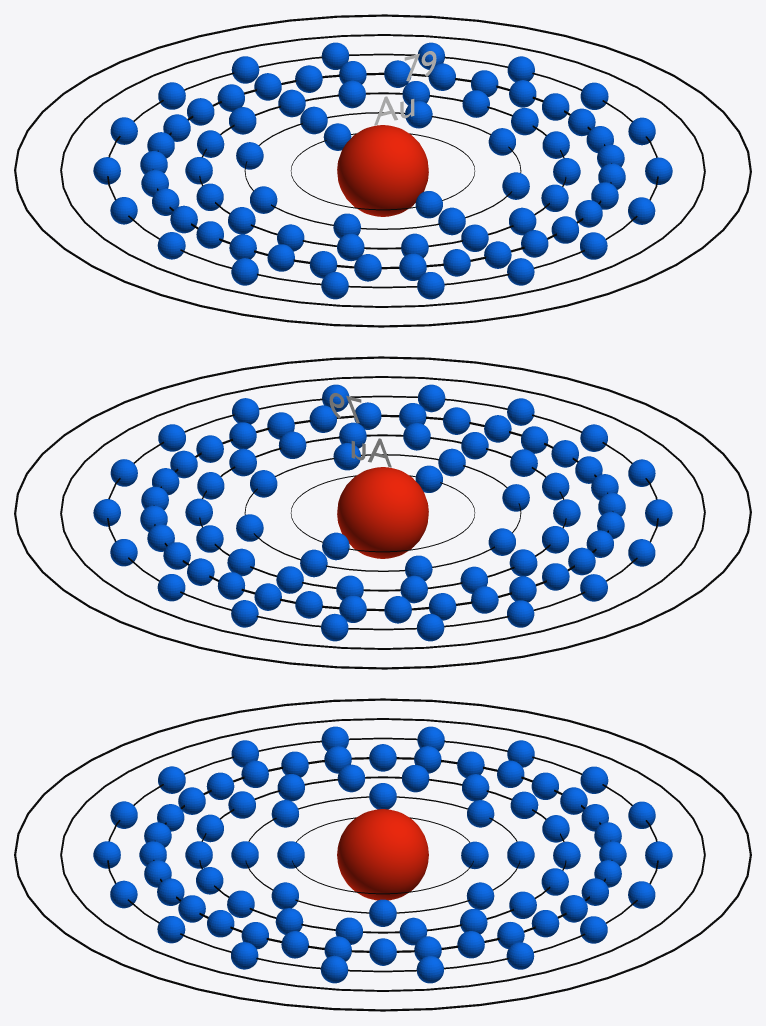
The picture shows the model from 3 angles, top to bottom: view 1: azimuth 30°, elevation 25°; view 2: azimuth 150°, elevation 25°; view 3: azimuth 270°, elevation 25°; orthographic projection.
Parts seen in each view (by area): view 1: Au4, Au5, Au3, Proton, n7, Au2, n6, n5, Au1, n3, n4, n2; view 2: Au4, Au5, Au3, Proton, n7, Au2, n6, n5, Au1, n3, n4, n2; view 3: Au4, Au3, Au5, Proton, Au2, n7, n6, n5, Au1, n3, n4, n2 (+1 smaller).
Part boxes in pixels (left/top/right/bottom): Au4: left=140, top=60, right=625, bottom=281; Au5: left=93, top=42, right=672, bottom=299; Au3: left=185, top=80, right=580, bottom=261; Proton: left=337, top=125, right=428, bottom=216; n7: left=14, top=14, right=751, bottom=327; Au2: left=236, top=101, right=529, bottom=238; n6: left=60, top=34, right=705, bottom=307; n5: left=107, top=53, right=658, bottom=288; Au1: left=323, top=123, right=442, bottom=218; n3: left=199, top=92, right=566, bottom=249; n4: left=152, top=72, right=611, bottom=269; n2: left=244, top=112, right=521, bottom=229; Au4: left=140, top=402, right=625, bottom=623; Au5: left=93, top=384, right=672, bottom=641; Au3: left=185, top=422, right=580, bottom=603; Proton: left=337, top=467, right=428, bottom=558; n7: left=14, top=356, right=751, bottom=669; Au2: left=236, top=443, right=529, bottom=580; n6: left=60, top=376, right=705, bottom=649; n5: left=107, top=395, right=658, bottom=630; Au1: left=322, top=465, right=442, bottom=560; n3: left=199, top=434, right=566, bottom=591; n4: left=153, top=414, right=613, bottom=611; n2: left=244, top=454, right=521, bottom=571; Au4: left=139, top=744, right=626, bottom=965; Au3: left=185, top=764, right=580, bottom=945; Au5: left=93, top=726, right=672, bottom=983; Proton: left=337, top=809, right=428, bottom=900; Au2: left=231, top=783, right=534, bottom=926; n7: left=14, top=698, right=751, bottom=1011; n6: left=60, top=718, right=705, bottom=991; n5: left=107, top=737, right=658, bottom=972; Au1: left=277, top=841, right=488, bottom=869; n3: left=199, top=776, right=566, bottom=933; n4: left=153, top=757, right=612, bottom=952; n2: left=245, top=796, right=520, bottom=913.
Size of the model in its own units: 802 by 180 by 802.
